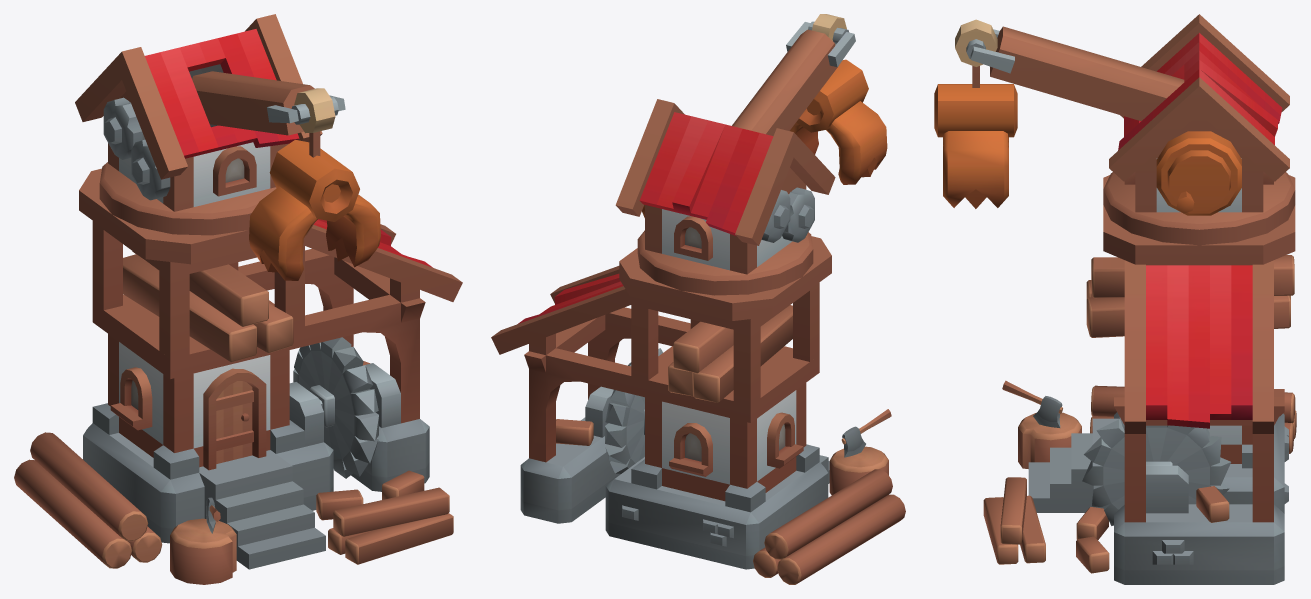
Rendered from lumbermill.glb.
3 views of the same model, side by side, from view 1: azimuth 30°, elevation 25°; view 2: azimuth 150°, elevation 25°; view 3: azimuth 270°, elevation 25° (orthographic). The views are drawn at different scales.
Parts seen in each view (by area): view 1: building_lumbermill_red, building_lumbermill_top_red, building_lumbermill_saw_red; view 2: building_lumbermill_red, building_lumbermill_top_red, building_lumbermill_saw_red; view 3: building_lumbermill_red, building_lumbermill_top_red, building_lumbermill_saw_red.
Part boxes in pixels (x1,y1,x2,y2): building_lumbermill_red: (14, 168, 462, 584); building_lumbermill_top_red: (75, 14, 380, 280); building_lumbermill_saw_red: (293, 337, 378, 478); building_lumbermill_red: (491, 236, 905, 584); building_lumbermill_top_red: (615, 14, 887, 295); building_lumbermill_saw_red: (605, 348, 662, 474); building_lumbermill_red: (983, 175, 1296, 584); building_lumbermill_top_red: (934, 14, 1295, 245); building_lumbermill_saw_red: (1082, 417, 1231, 525).
Bounding box in the file's own units: 1.37 × 1.71 × 1.19.
1 material, 1 textured.
